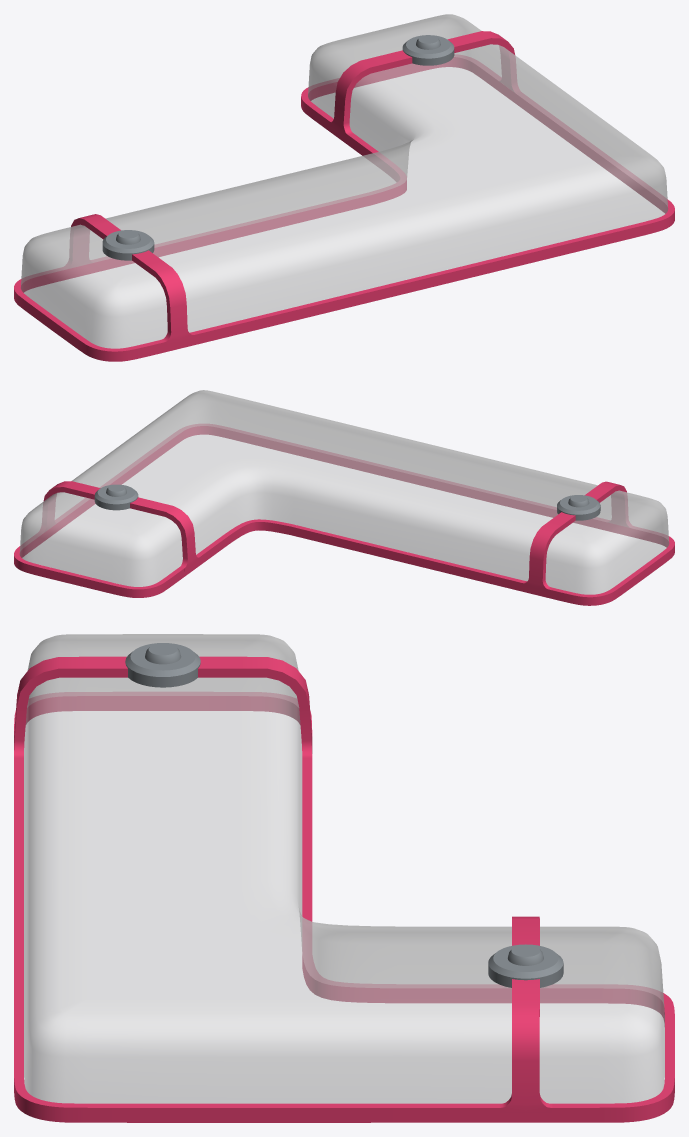
Rendered from hop_L_L_2.fbx.
The picture shows the model from 3 angles, top to bottom: view 1: azimuth 30°, elevation 25°; view 2: azimuth 150°, elevation 25°; view 3: azimuth 270°, elevation 25°; orthographic projection. The views are drawn at different scales.
Visible parts, largest first — view 1: Cube.164, Cube.167, Cylinder.154, Cylinder.149; view 2: Cube.164, Cube.167, Cylinder.154, Cylinder.149; view 3: Cube.164, Cube.167, Cylinder.149, Cylinder.154.
Boxes of the visible parts, bbox=[...] form: Cube.164: bbox=[21, 14, 668, 348]; Cube.167: bbox=[14, 31, 674, 361]; Cylinder.154: bbox=[402, 35, 454, 65]; Cylinder.149: bbox=[102, 230, 154, 260]; Cube.164: bbox=[19, 390, 669, 594]; Cube.167: bbox=[14, 424, 674, 605]; Cylinder.154: bbox=[94, 484, 138, 510]; Cylinder.149: bbox=[557, 495, 600, 520]; Cube.164: bbox=[24, 634, 664, 1103]; Cube.167: bbox=[14, 656, 674, 1122]; Cylinder.149: bbox=[125, 643, 200, 687]; Cylinder.154: bbox=[488, 944, 563, 987].
Bounding box in the file's own units: 597 × 75 × 401.
